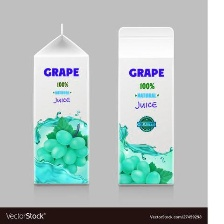carton: (110, 22, 177, 188), (30, 20, 94, 188)
